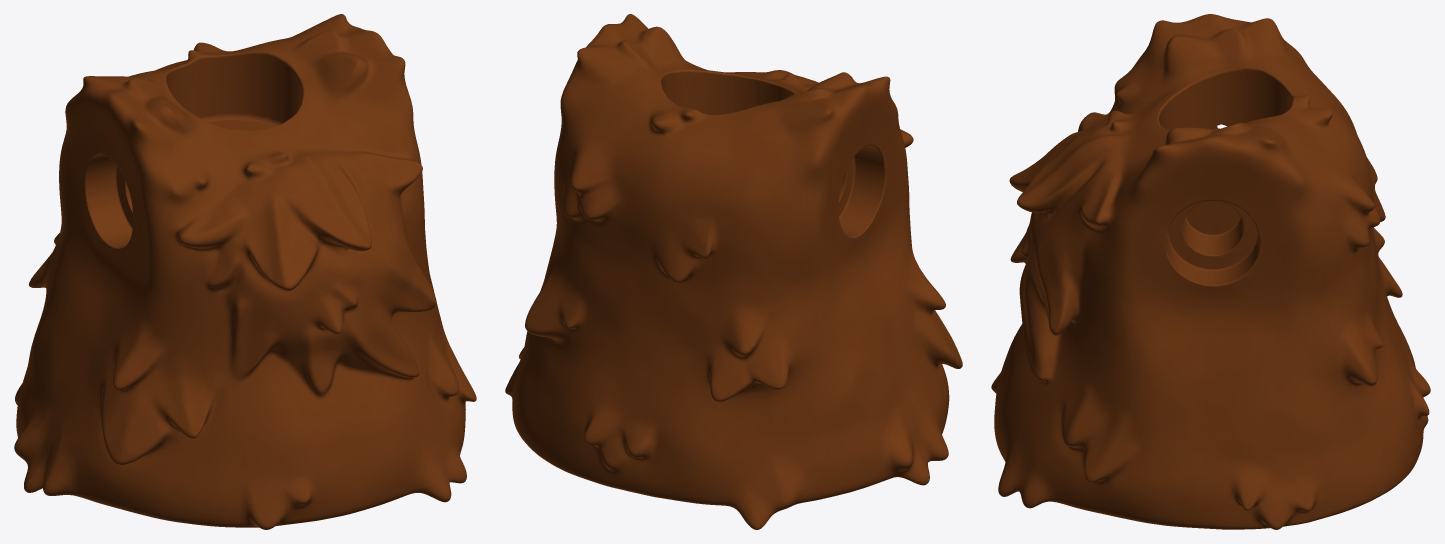
The model's file is Buste_Lion.glb.
3 renders of one model, left to right at view 1: azimuth 30°, elevation 25°; view 2: azimuth 150°, elevation 25°; view 3: azimuth 270°, elevation 25°, orthographic. The views are drawn at different scales.
Parts seen in each view (by area): view 1: Buste_Lion; view 2: Buste_Lion; view 3: Buste_Lion.
Part boxes in pixels (x1,y1,x2,y2): Buste_Lion: (14, 14, 476, 529); Buste_Lion: (505, 14, 962, 529); Buste_Lion: (991, 14, 1430, 529).
Size of the model in its own units: 4.47 by 4 by 4.23.
